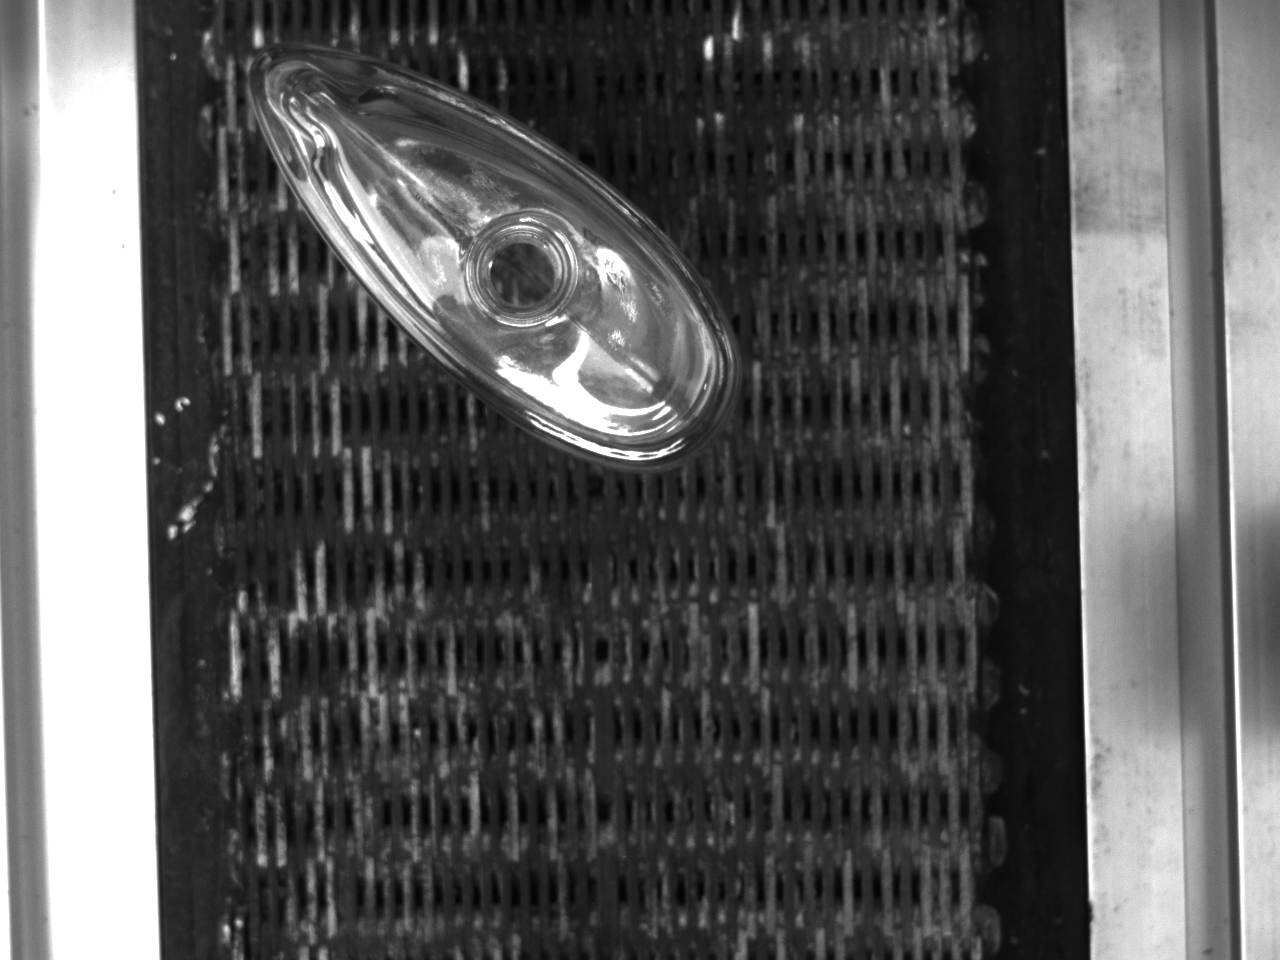bottleneck: (469, 217, 579, 328)
